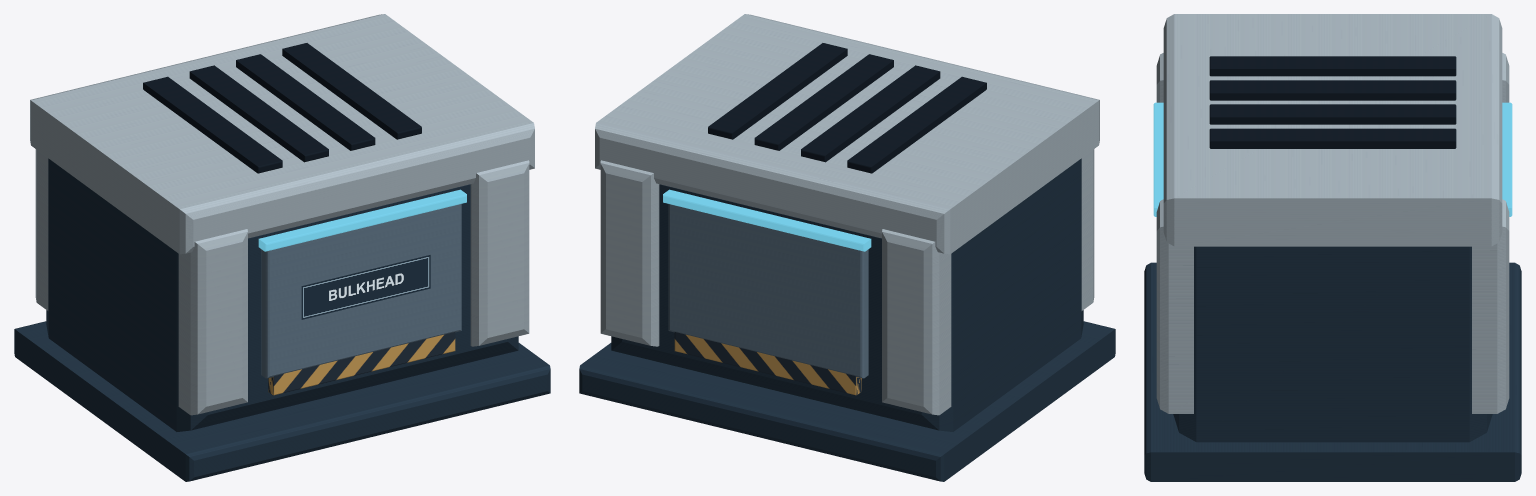
Rendered from wall.glb.
The picture shows the model from 3 angles, left to right: view 1: azimuth 30°, elevation 25°; view 2: azimuth 150°, elevation 25°; view 3: azimuth 270°, elevation 25°; orthographic projection. The views are drawn at different scales.
Visible parts, largest first — view 1: Ceramic titanium armor, Graphite composite, Brushed titanium, Carbon machinery, Identification BULKHEAD, Safety stripe, Coolant conduit; view 2: Ceramic titanium armor, Graphite composite, Brushed titanium, Carbon machinery, Safety stripe, Coolant conduit; view 3: Graphite composite, Ceramic titanium armor, Carbon machinery, Coolant conduit.
Part boxes in pixels (left/top/right/bottom): Ceramic titanium armor: left=30, top=14, right=534, bottom=415; Graphite composite: left=14, top=158, right=550, bottom=481; Brushed titanium: left=261, top=204, right=461, bottom=378; Carbon machinery: left=143, top=43, right=421, bottom=173; Identification BULKHEAD: left=301, top=255, right=430, bottom=319; Safety stripe: left=268, top=332, right=455, bottom=395; Coolant conduit: left=258, top=189, right=466, bottom=251; Ceramic titanium armor: left=595, top=14, right=1099, bottom=415; Graphite composite: left=579, top=158, right=1115, bottom=481; Brushed titanium: left=668, top=204, right=868, bottom=378; Carbon machinery: left=708, top=43, right=986, bottom=173; Safety stripe: left=674, top=332, right=861, bottom=395; Coolant conduit: left=663, top=189, right=871, bottom=251; Graphite composite: left=1144, top=246, right=1521, bottom=481; Ceramic titanium armor: left=1156, top=14, right=1509, bottom=413; Carbon machinery: left=1209, top=56, right=1456, bottom=148; Coolant conduit: left=1153, top=102, right=1512, bottom=216.
Bounding box in the file's own units: 2.2 × 1.56 × 1.85.
7 materials, 6 textured.
